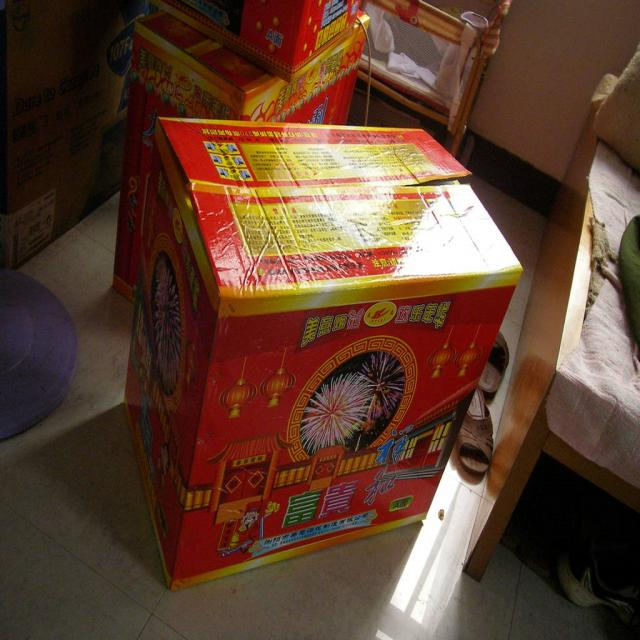Box: (126, 118, 523, 592), (112, 3, 368, 306), (0, 0, 153, 266), (154, 0, 362, 83)
